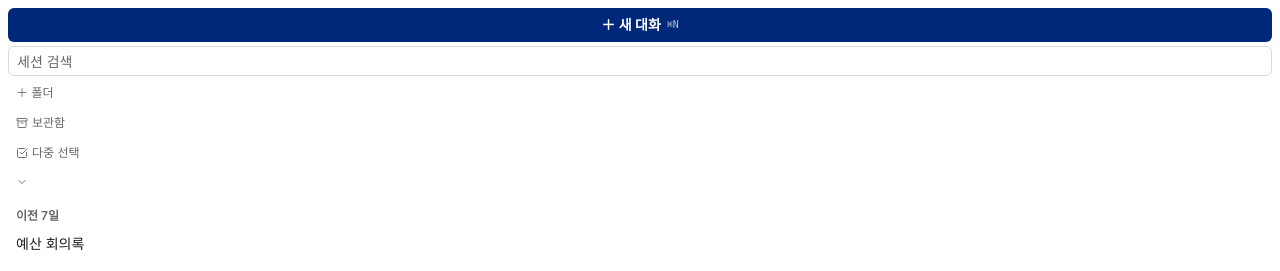
SessionList › 검색 결과가 없으면 '세션이 없습니다' 대신 '검색 결과 없음' 을 렌더한다(UX-19)
This screenshot has width=1280, height=271.
Expected: the button "예산 회의록" is shown, left=16, top=234, right=1264, bottom=254
Type "없는검색어" into the search field with test id "session-search-input" at (640, 61), box left=8, top=46, right=1272, bottom=76
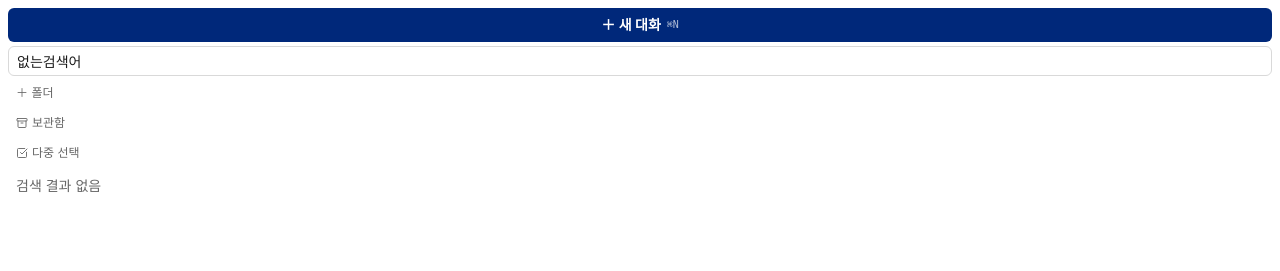
Result: the text "검색 결과 없음" is shown at left=16, top=177, right=101, bottom=194
